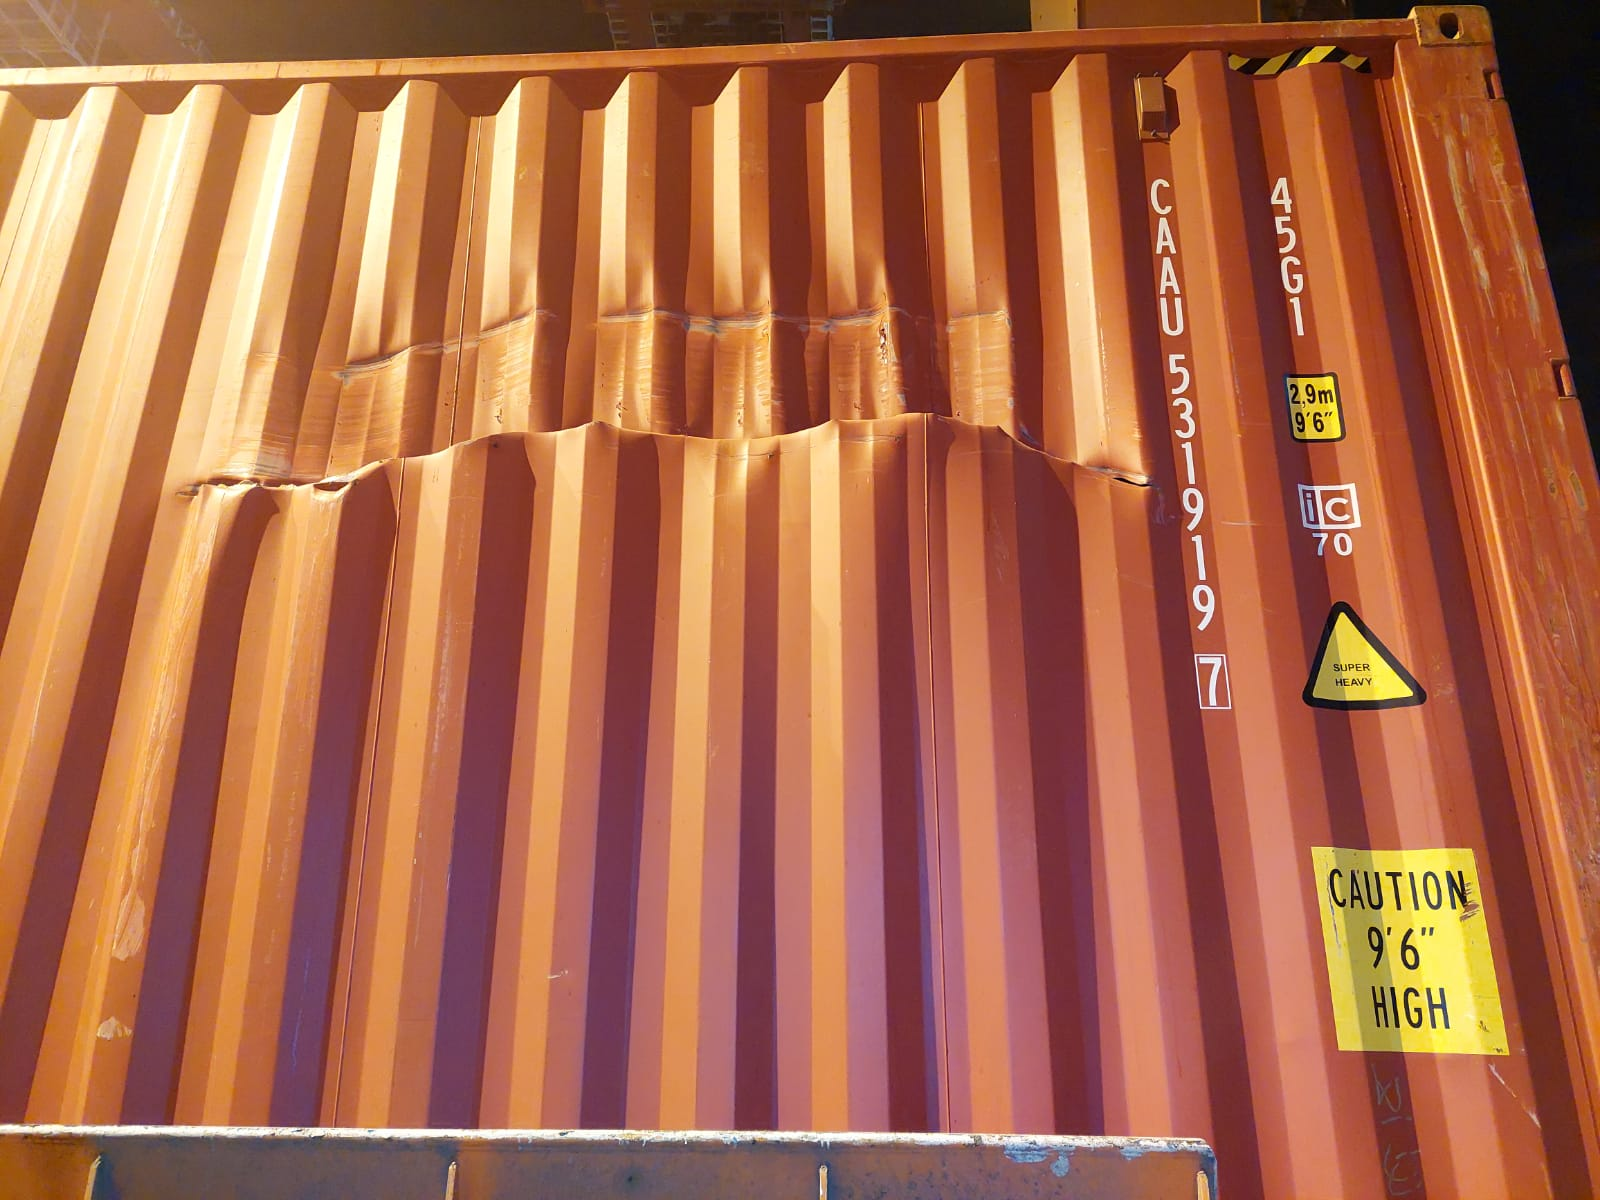cut: (161, 348, 1149, 552)
